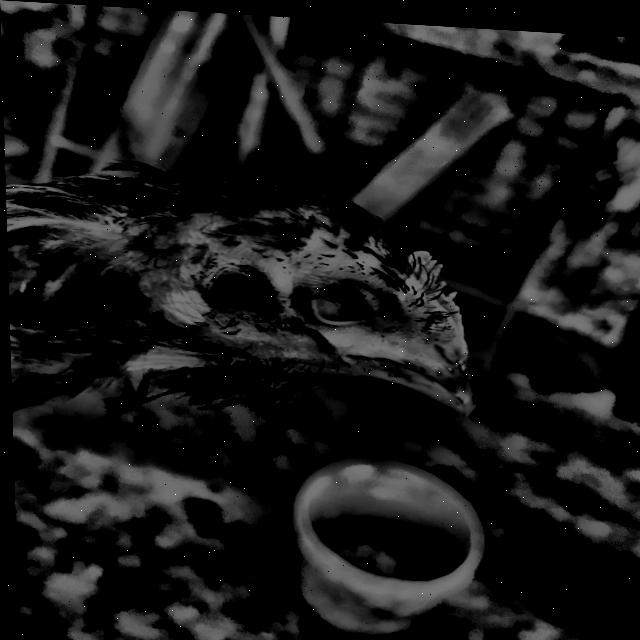Coryza: (49, 158, 516, 430)
